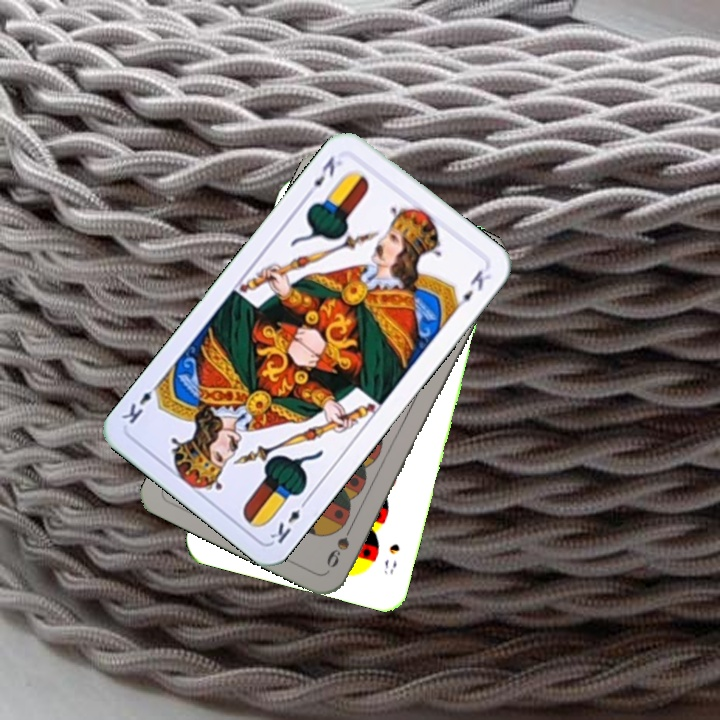EK: (266, 494, 312, 546), (302, 152, 345, 200)
S8: (379, 539, 402, 578)
S9: (322, 517, 358, 571)
